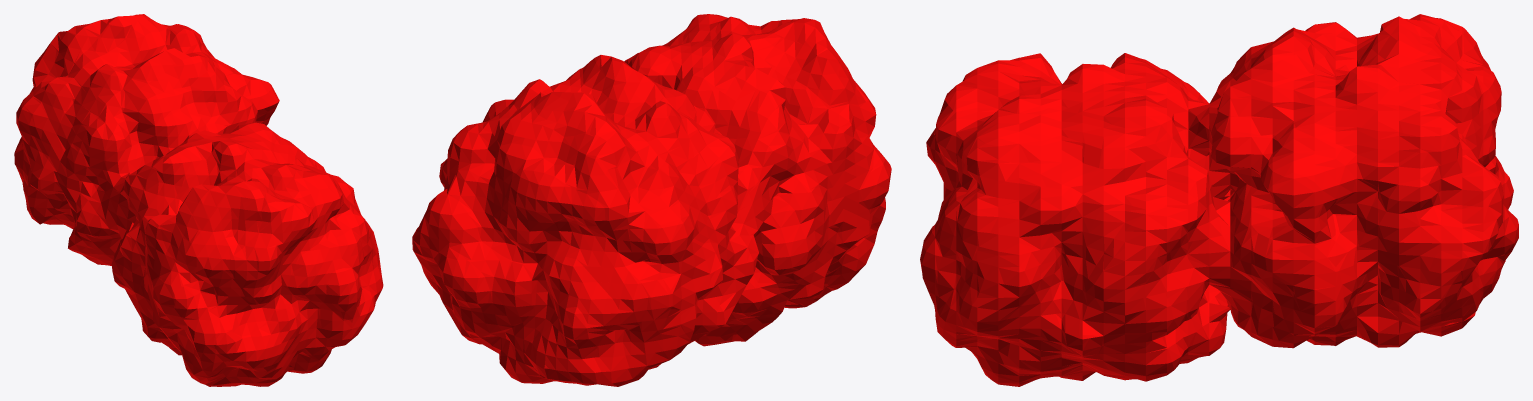
File: menB_coarse.dae
3 renders of one model, left to right at view 1: azimuth 30°, elevation 25°; view 2: azimuth 150°, elevation 25°; view 3: azimuth 270°, elevation 25°, orthographic. The views are drawn at different scales.
Parts seen in each view (by area): view 1: menB; view 2: menB; view 3: menB.
Boxes of the visible parts, x1,y1,x2,y2 form: menB: (14,14,383,386); menB: (412,14,891,386); menB: (920,14,1518,386).
Size of the model in its own units: 88.26 by 102 by 156.
